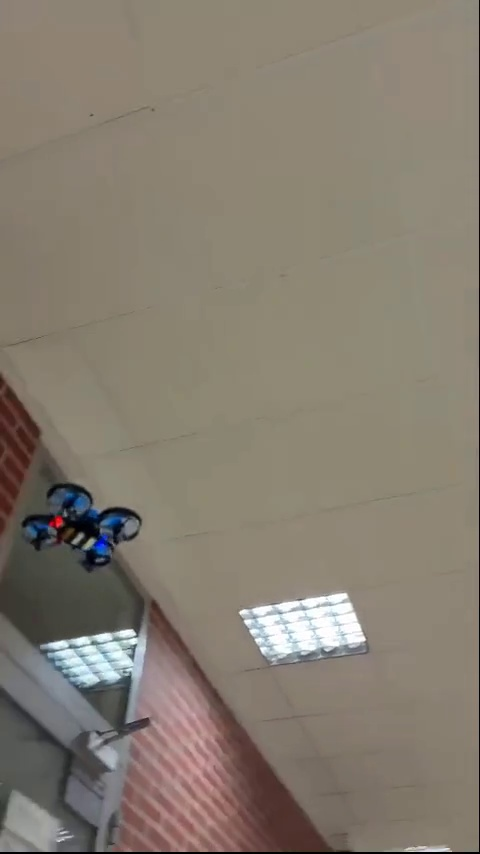drone: (20, 484, 143, 575)
